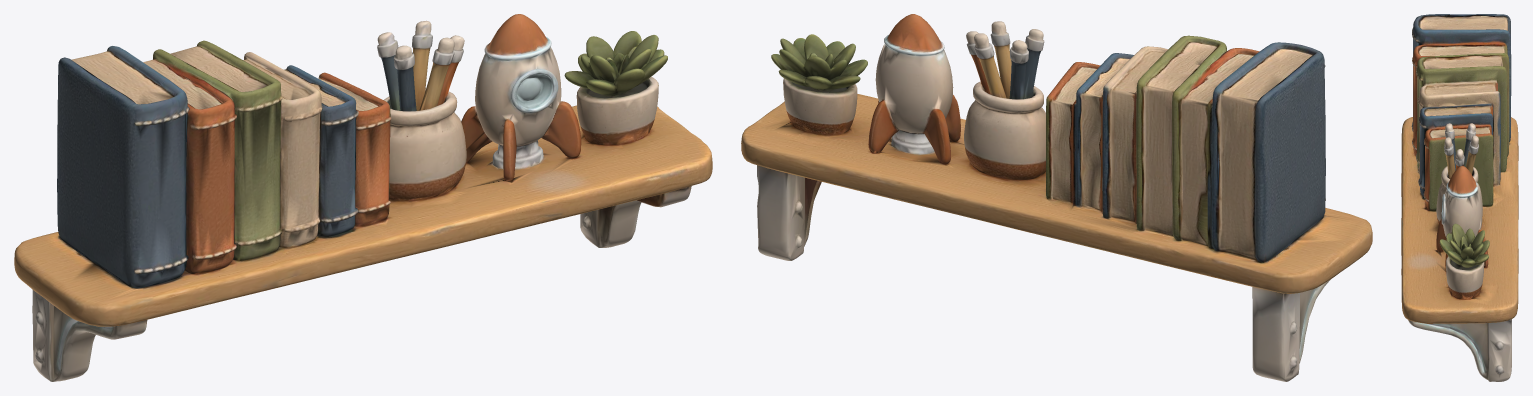
The model's file is wall-shelf.high.glb.
3 renders of one model, left to right at view 1: azimuth 30°, elevation 25°; view 2: azimuth 150°, elevation 25°; view 3: azimuth 270°, elevation 25°, orthographic. The views are drawn at different scales.
Visible parts, largest first — view 1: tripo_node_611b1420-b976-47e4-8e1a-0d7e6fac6155; view 2: tripo_node_611b1420-b976-47e4-8e1a-0d7e6fac6155; view 3: tripo_node_611b1420-b976-47e4-8e1a-0d7e6fac6155.
Part boxes in pixels (bbox=[...]): tripo_node_611b1420-b976-47e4-8e1a-0d7e6fac6155: bbox=[14, 14, 712, 381]; tripo_node_611b1420-b976-47e4-8e1a-0d7e6fac6155: bbox=[741, 14, 1372, 381]; tripo_node_611b1420-b976-47e4-8e1a-0d7e6fac6155: bbox=[1401, 14, 1518, 381].
Bounding box in the file's own units: 1.2 × 0.5596 × 0.3.
1 material, 1 textured.
